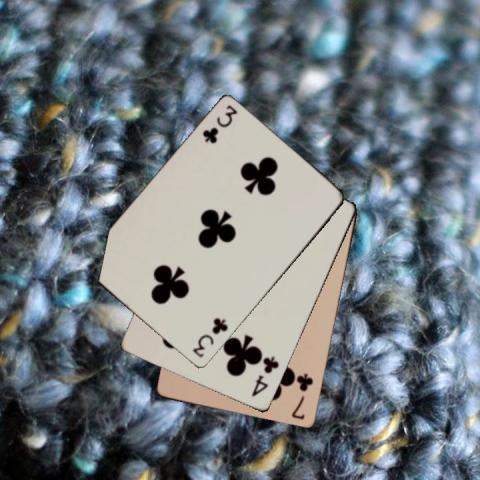3c: (190, 315, 230, 360), (199, 102, 239, 145)
4c: (248, 353, 280, 399)
7c: (289, 371, 315, 421)
